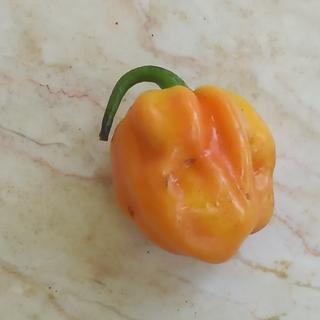Grade-B: (97, 81, 280, 263)
